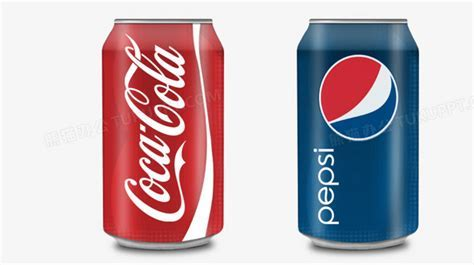Coke: (99, 15, 228, 255)
Pepsi: (294, 15, 423, 249)
